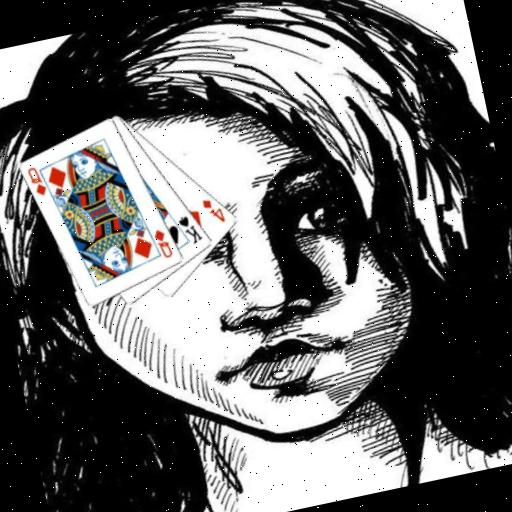4D: (198, 192, 227, 227)
KS: (174, 210, 206, 248)
QD: (23, 161, 49, 199), (149, 224, 175, 261)
